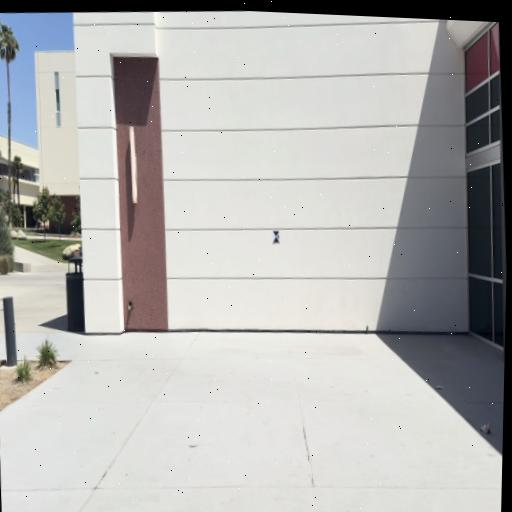target0: (272, 230, 281, 244)
